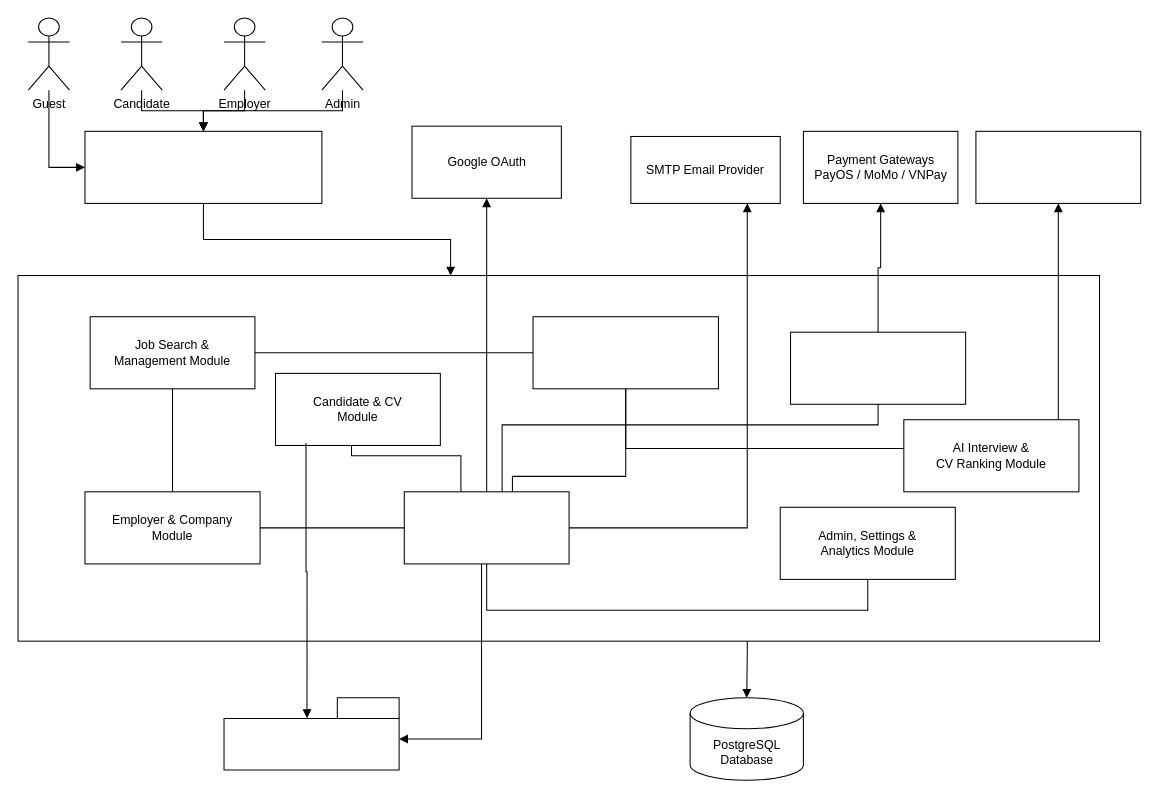
The diagram is 1159 pixels wide and 798 high, and some of its shapes have lost their labels. The box of each missing label's shape, as (x1, y1, x2, y2) in pixels:
AI / LLM & STT ShopAIKey / Gladia: (975, 130, 1141, 203)
Application & Interview Workflow Module: (532, 316, 718, 389)
Local File Storage CVs / Avatars: (223, 697, 399, 770)
Smart Recruitment Portal System: (17, 274, 1100, 641)
Smart Recruitment Portal Web Application: (84, 130, 322, 203)
Subscriptions & Billing Module: (789, 331, 966, 404)
User & Account Module: (403, 491, 569, 564)
